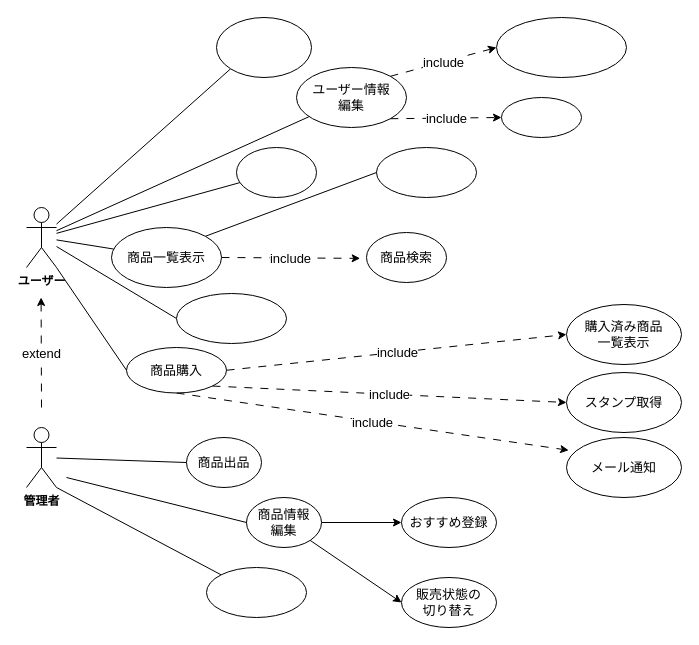
The diagram is 699 pixels wide and 645 high, and some of its shapes have lost their labels. Here are the shapes that lost their labels. From the top down, the centre of each, then its label:
At (x=264, y=47): "ログイン ログアウト".
At (x=561, y=47): "パスワードリセット".
At (x=541, y=117): "住所登録".
At (x=276, y=172): "会員登録".
At (x=426, y=172): "商品詳細表示".
At (x=231, y=318): "カート".
At (x=256, y=592): "購入履歴取得".
